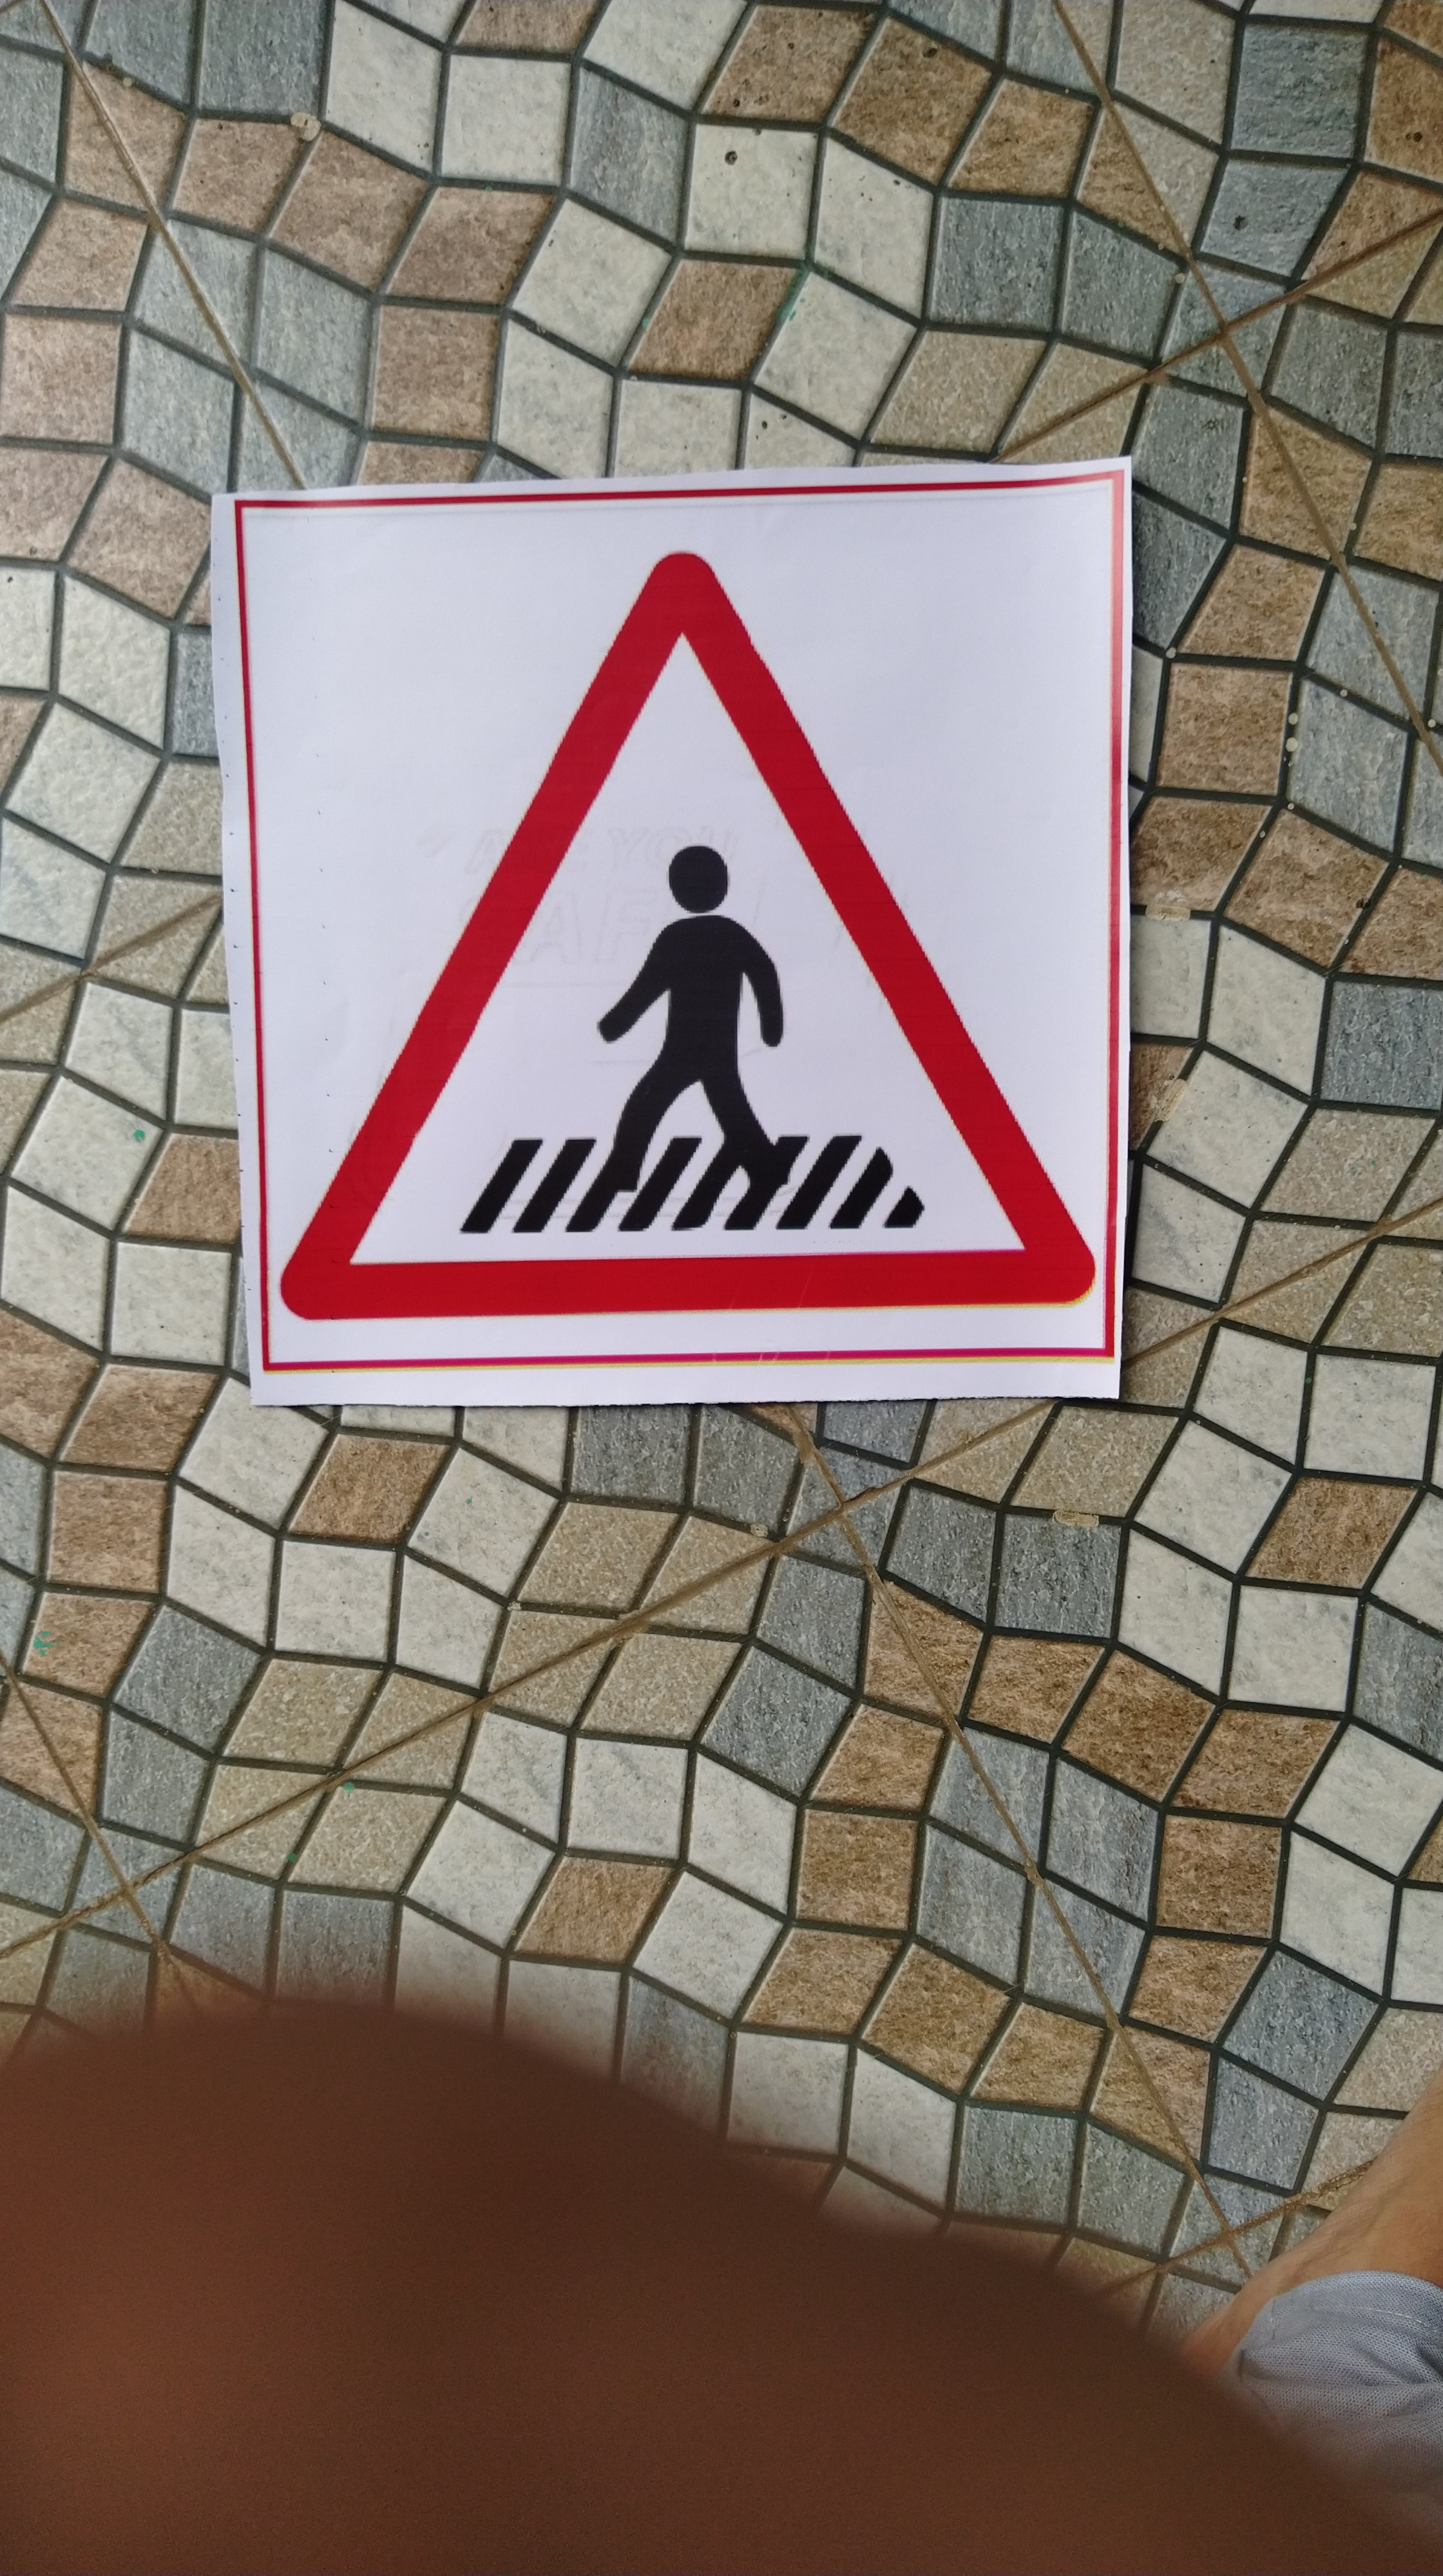pedestrain crossing: (259, 534, 1080, 1437)
